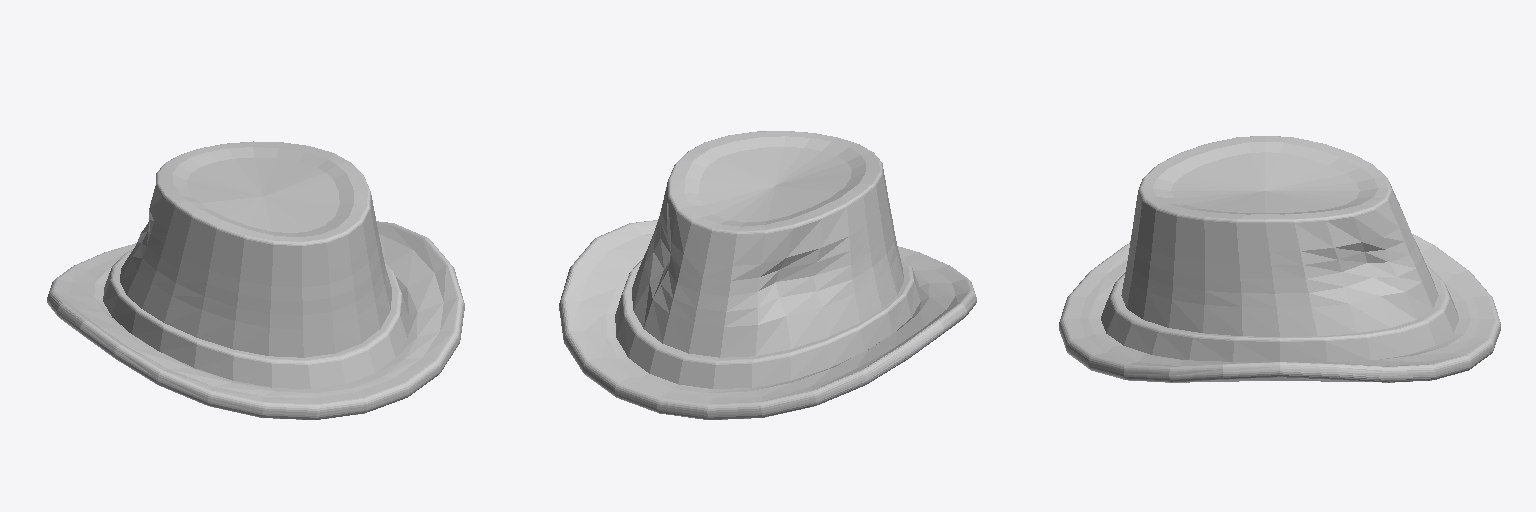
Rendered from fedora.obj.
The picture shows the model from 3 angles: view 1: azimuth 30°, elevation 25°; view 2: azimuth 150°, elevation 25°; view 3: azimuth 270°, elevation 25°; orthographic projection.
Visible parts, largest first — view 1: Cylinder.004_Cylinder.003; view 2: Cylinder.004_Cylinder.003; view 3: Cylinder.004_Cylinder.003.
Boxes of the visible parts, x1,y1,x2,y2 form: Cylinder.004_Cylinder.003: [47, 141, 464, 419]; Cylinder.004_Cylinder.003: [559, 131, 976, 419]; Cylinder.004_Cylinder.003: [1059, 136, 1500, 382].
Size of the model in its own units: 1.75 by 0.7427 by 1.9.